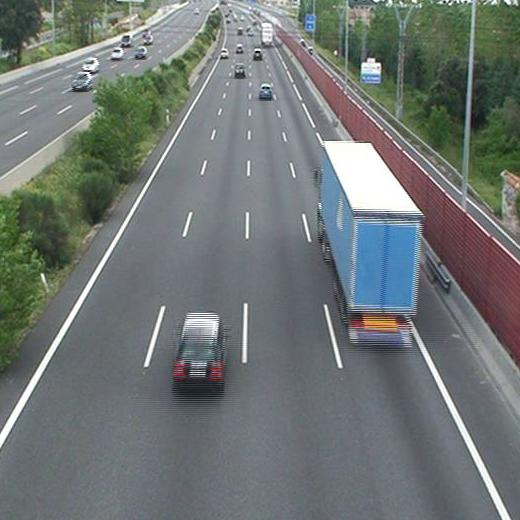car: (174, 313, 224, 384), (258, 84, 271, 98), (234, 64, 245, 77), (253, 49, 262, 59), (219, 49, 229, 58), (235, 45, 244, 53)
truck: (318, 141, 424, 345), (260, 22, 273, 45)
